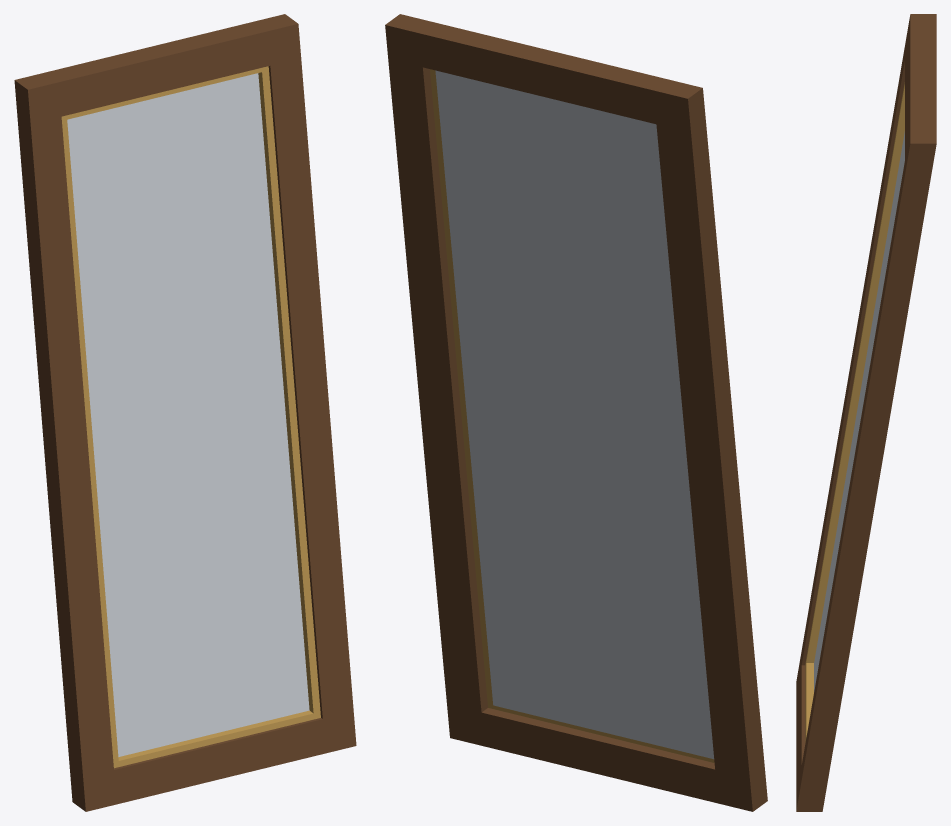
The model's file is FN_Mirror_Floor.glb.
3 renders of one model, left to right at view 1: azimuth 30°, elevation 25°; view 2: azimuth 150°, elevation 25°; view 3: azimuth 270°, elevation 25°, orthographic. The views are drawn at different scales.
Visible parts, largest first — view 1: FN_Mirror_Floor; view 2: FN_Mirror_Floor; view 3: FN_Mirror_Floor.
Boxes of the visible parts, x1,y1,x2,y2 form: FN_Mirror_Floor: (14, 14, 356, 811); FN_Mirror_Floor: (385, 14, 767, 811); FN_Mirror_Floor: (796, 14, 936, 811).
Bounding box in the file's own units: 0.7 × 1.68 × 0.32.
Materials: 1 (1 with a texture image).
